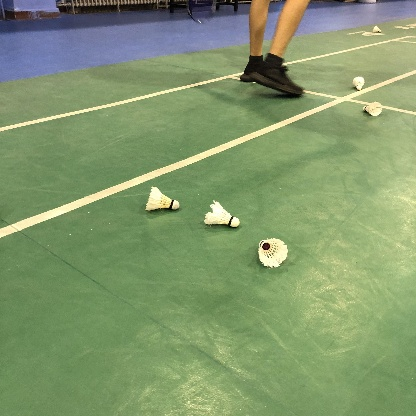ball_single: (204, 201, 240, 227), (258, 238, 288, 268), (145, 187, 180, 210), (363, 102, 382, 116), (353, 76, 365, 90), (373, 26, 382, 32)
